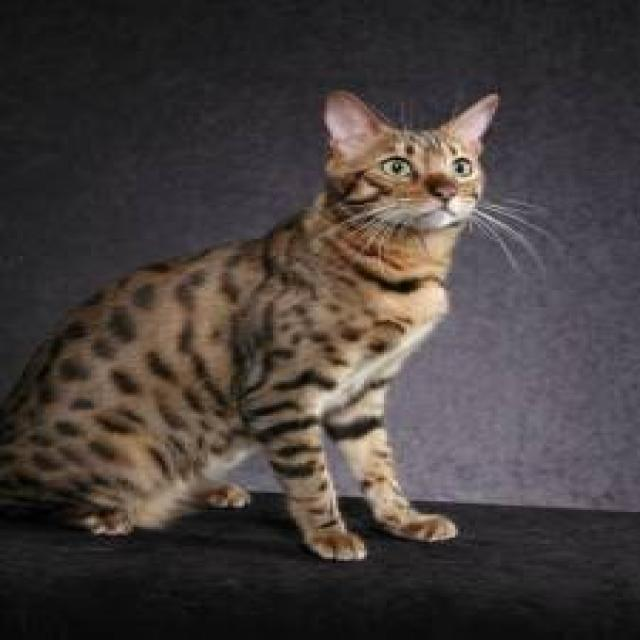Bengal: (321, 88, 495, 226)
